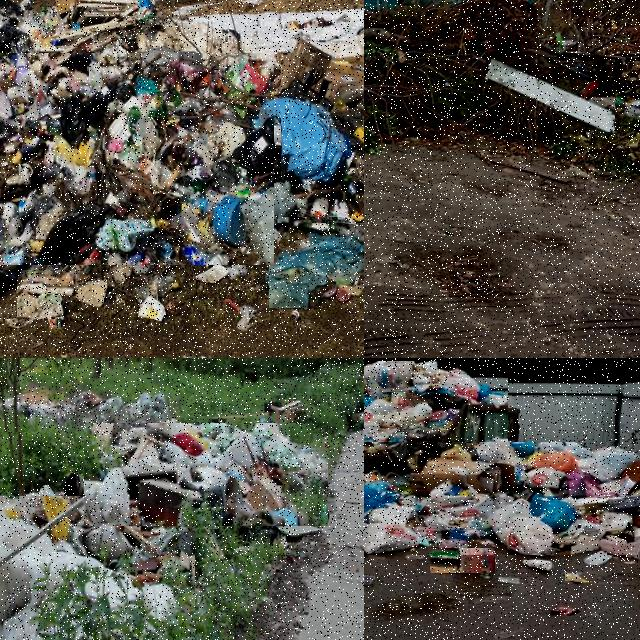lixeira: (0, 53, 276, 267), (364, 442, 639, 558), (0, 496, 197, 639), (84, 424, 330, 528), (364, 361, 511, 477), (281, 53, 363, 219), (0, 377, 171, 435), (488, 58, 616, 134), (0, 1, 172, 50), (270, 222, 363, 310), (18, 270, 106, 318), (431, 549, 497, 575), (566, 551, 609, 582), (557, 28, 590, 55), (615, 93, 639, 123), (522, 560, 554, 574)
